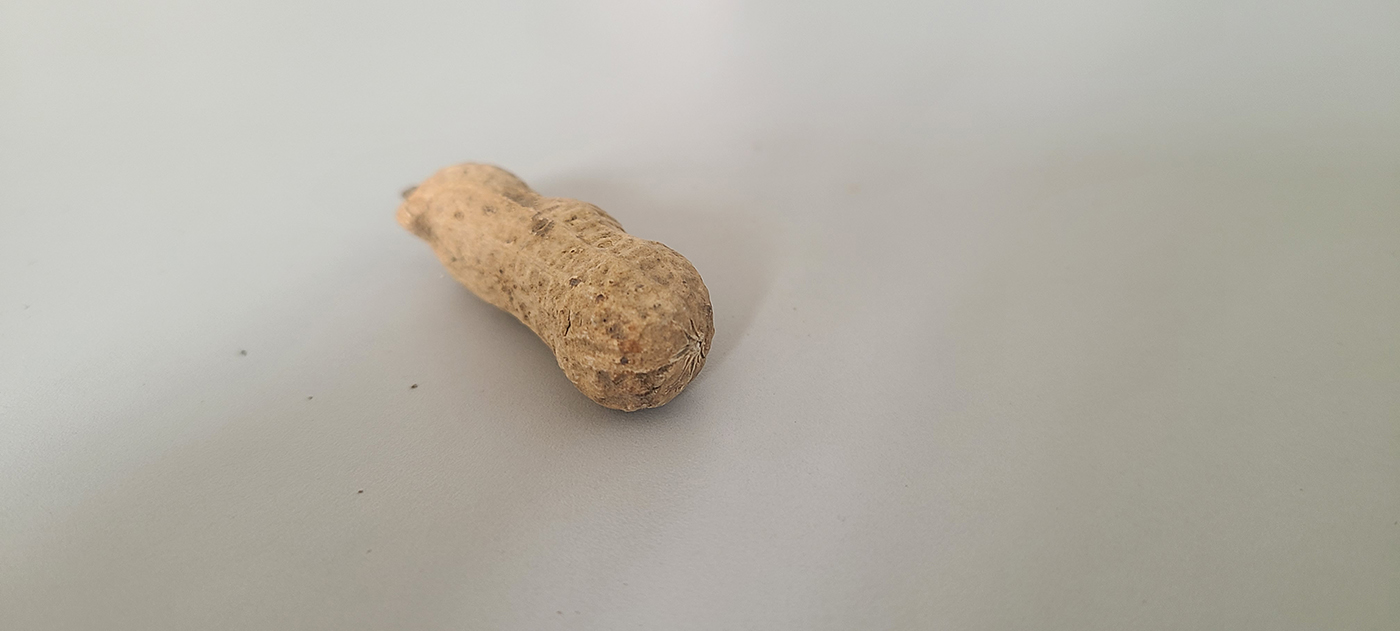h: (397, 157, 721, 419)
